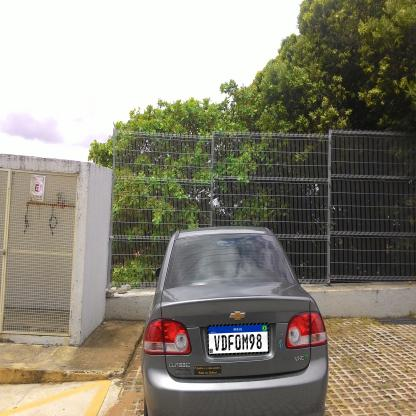PlacaM: (207, 322, 269, 356)
